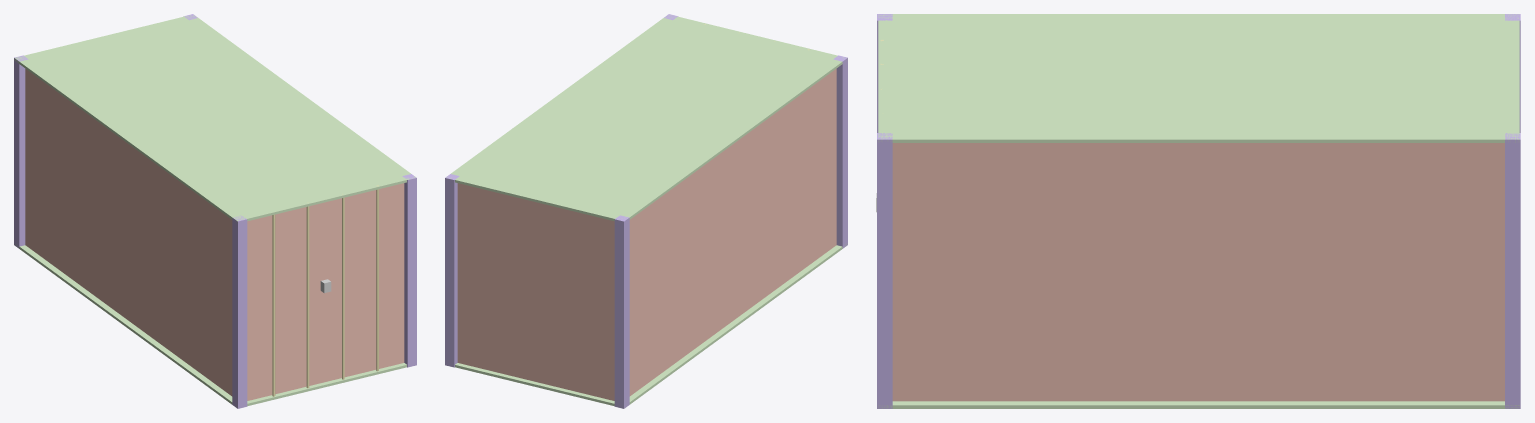
File: FreightContainer.obj
The picture shows the model from 3 angles, left to right: view 1: azimuth 30°, elevation 25°; view 2: azimuth 150°, elevation 25°; view 3: azimuth 270°, elevation 25°; orthographic projection. The views are drawn at different scales.
Visible parts, largest first — view 1: cube01, cube07, cube05, cube06, cube04, cube03, cylinder04, cylinder01, cylinder02, cylinder03; view 2: cube01, cube07, cube03, cube06, cube02, cube05; view 3: cube01, cube07, cube06, cube02, cube04.
Boxes of the visible parts, bbox=[...] form: cube01: bbox=[25, 68, 404, 400]; cube07: bbox=[14, 15, 415, 222]; cube05: bbox=[232, 215, 247, 408]; cube06: bbox=[15, 244, 406, 406]; cube04: bbox=[402, 174, 416, 367]; cube03: bbox=[14, 55, 28, 248]; cylinder04: bbox=[306, 202, 309, 388]; cylinder01: bbox=[272, 214, 275, 396]; cylinder02: bbox=[376, 185, 378, 371]; cylinder03: bbox=[342, 194, 344, 379]; cube01: bbox=[457, 68, 836, 400]; cube07: bbox=[446, 15, 843, 221]; cube03: bbox=[614, 215, 629, 408]; cube06: bbox=[455, 243, 847, 406]; cube02: bbox=[445, 174, 459, 367]; cube05: bbox=[833, 55, 847, 248]; cube01: bbox=[892, 143, 1504, 401]; cube07: bbox=[878, 14, 1519, 142]; cube06: bbox=[878, 401, 1519, 408]; cube02: bbox=[1505, 133, 1520, 408]; cube04: bbox=[877, 133, 892, 408].
Size of the model in its own units: 76 by 76 by 165.
